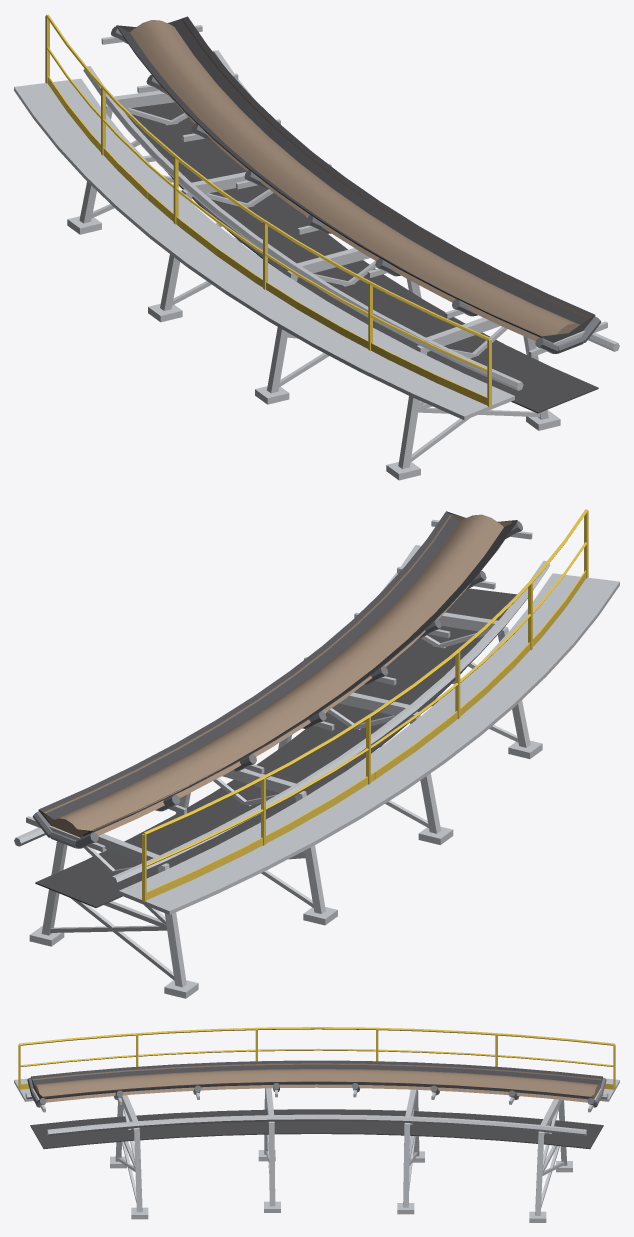
The model's file is ore-processing-and-haulage-plant-conveyor-curve-30deg-abac40f2.glb.
The picture shows the model from 3 angles, top to bottom: view 1: azimuth 30°, elevation 25°; view 2: azimuth 150°, elevation 25°; view 3: azimuth 270°, elevation 25°; orthographic projection. The views are drawn at different scales.
Parts seen in each view (by area): view 1: conveyor-curve-30deg; view 2: conveyor-curve-30deg; view 3: conveyor-curve-30deg.
Boxes of the visible parts, <box> form: conveyor-curve-30deg: <box>14,14,619,480</box>; conveyor-curve-30deg: <box>14,509,619,998</box>; conveyor-curve-30deg: <box>14,1027,619,1222</box>.
Bounding box in the file's own units: 4.04 × 2.92 × 12.84.
